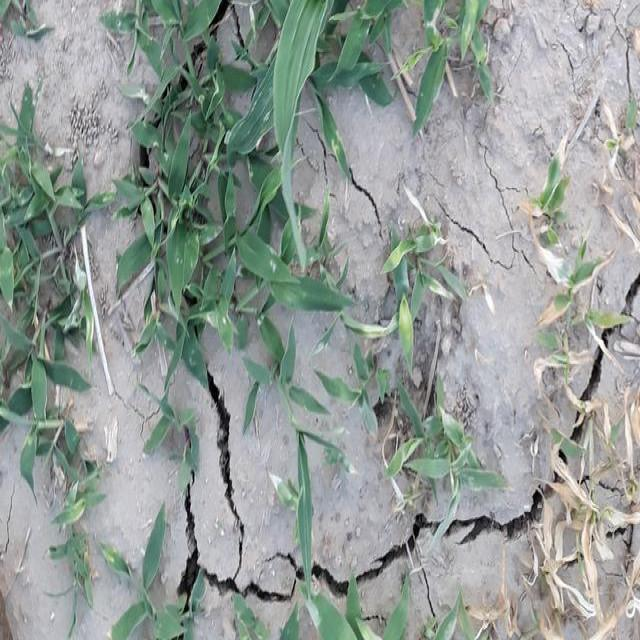weed: (121, 0, 341, 397), (0, 75, 94, 540)
